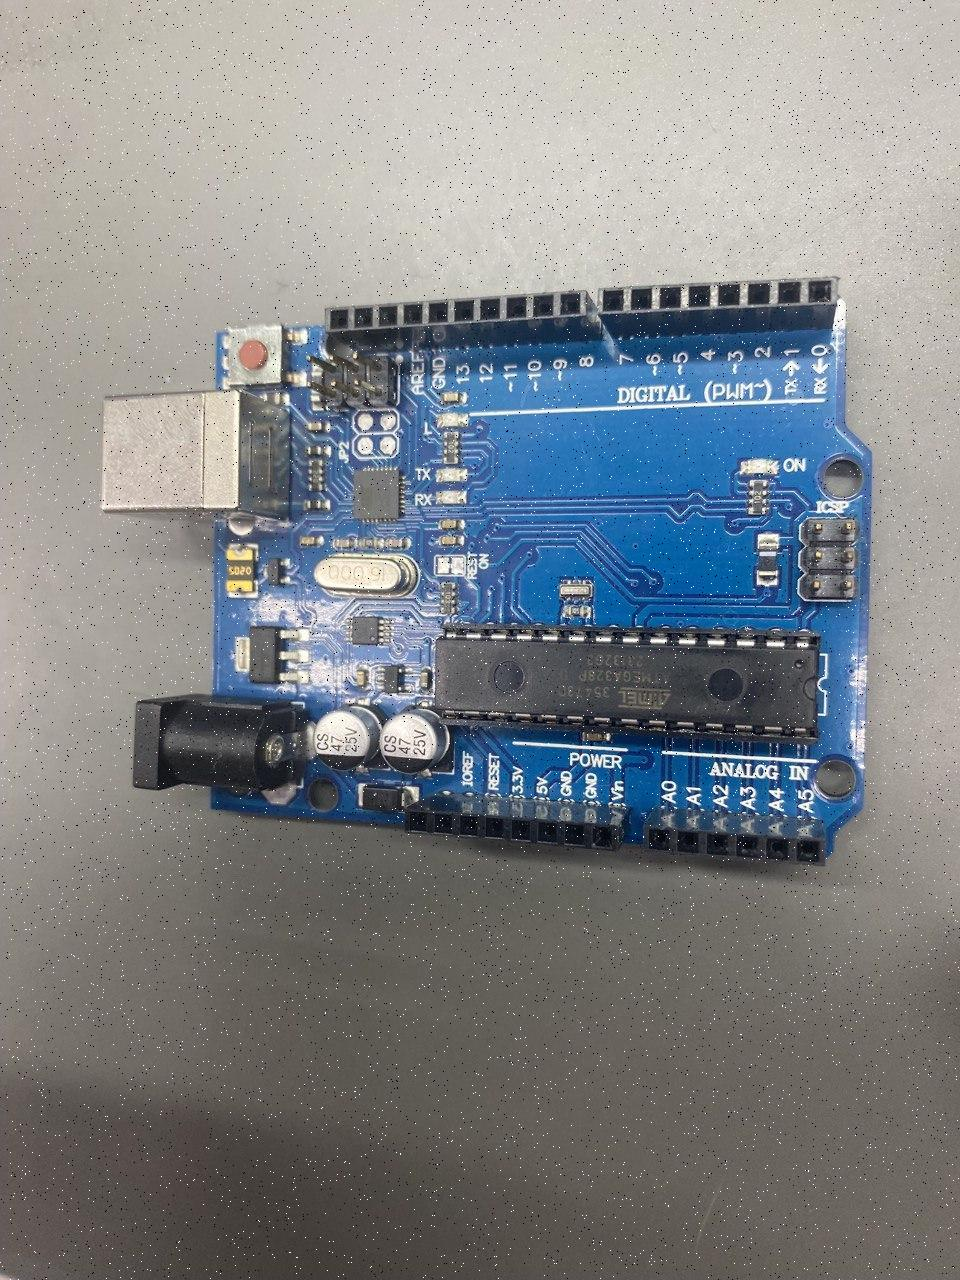ATmega328 chip: (436, 622, 821, 745)
Arduino board: (99, 277, 871, 866)
USB: (101, 389, 289, 522)
capacitor: (311, 701, 390, 771), (379, 706, 454, 773)
pins: (325, 290, 603, 354), (597, 276, 839, 339), (404, 792, 631, 852), (643, 808, 825, 867)
resistor: (749, 480, 766, 516), (309, 460, 325, 493), (444, 431, 459, 465), (441, 583, 456, 614)
